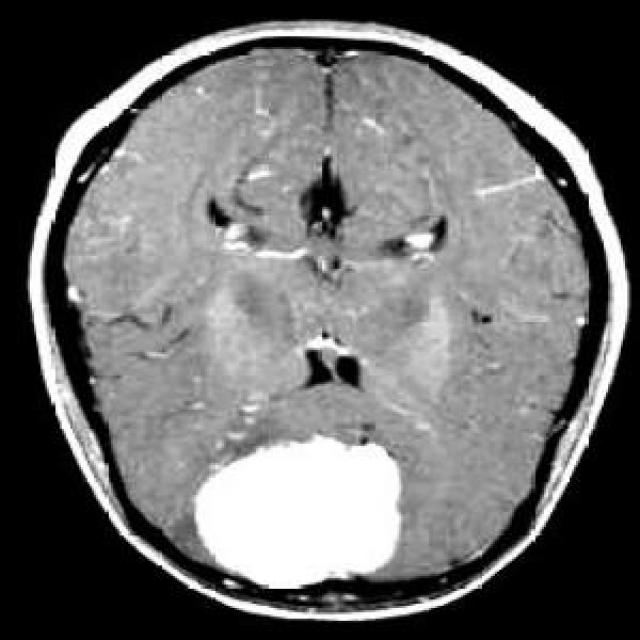Tumor: (194, 433, 401, 587)
